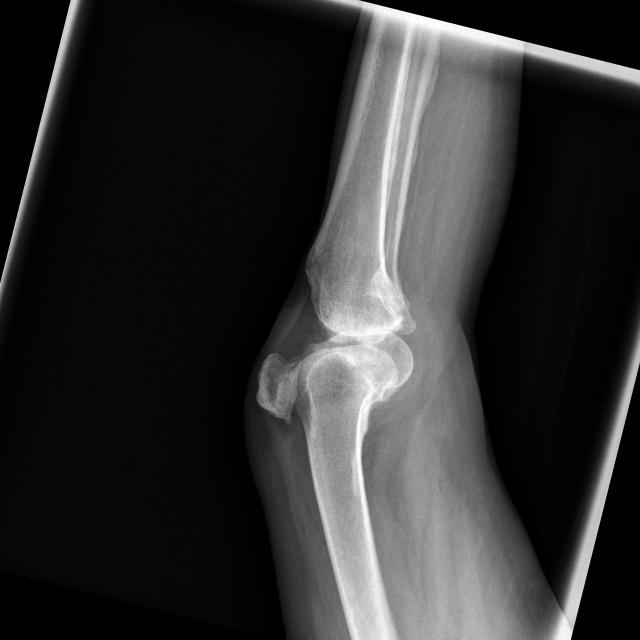Knee: (239, 239, 436, 457)
